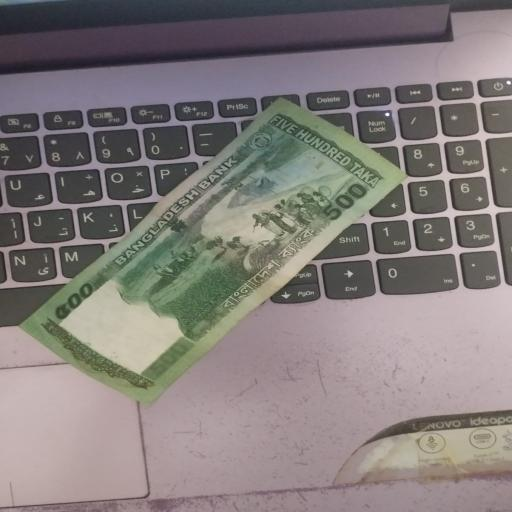500taka: (23, 91, 414, 403)
